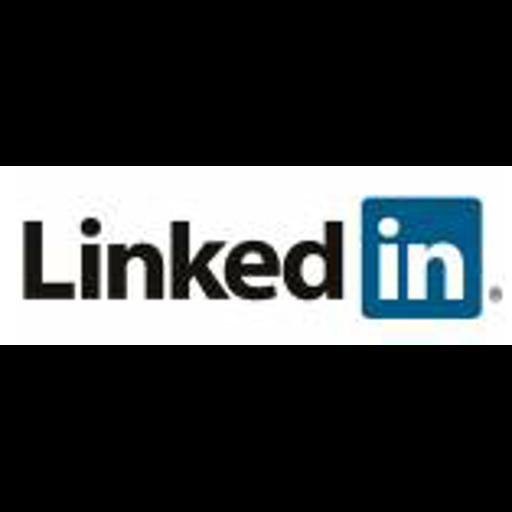LinkedIn Corporation: (0, 166, 512, 345)
